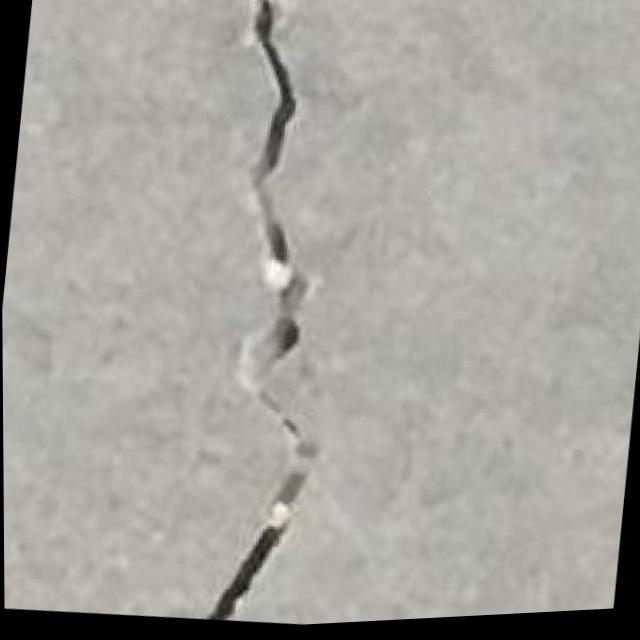Crack: (156, 0, 381, 634)
